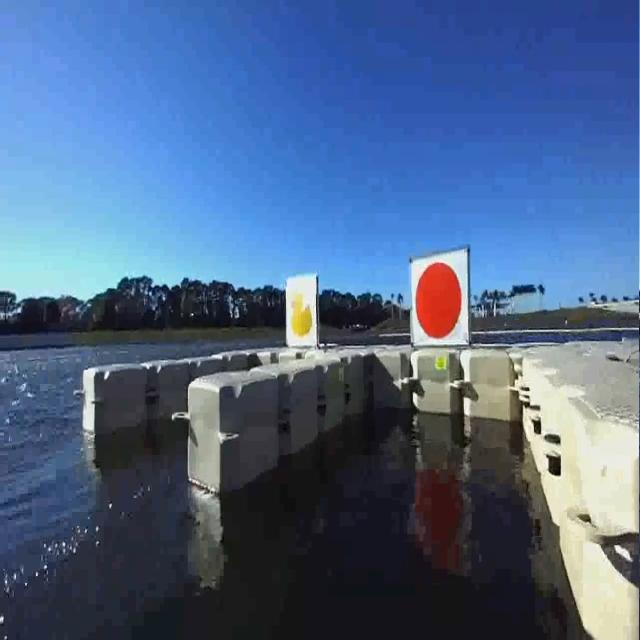red-dot: (411, 252, 465, 345)
yellow-duck: (284, 282, 316, 346)
